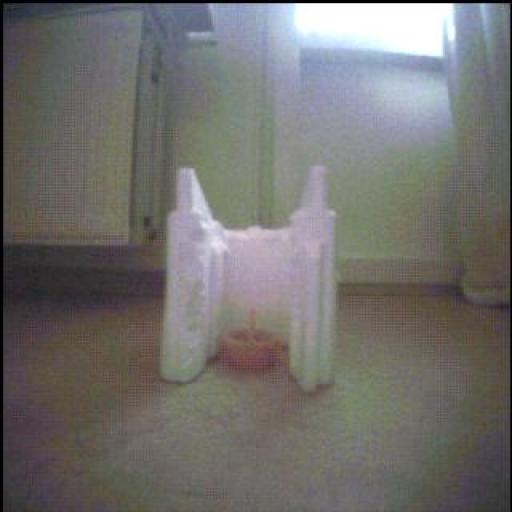Basket: (222, 313, 286, 371), (222, 329, 283, 371)
